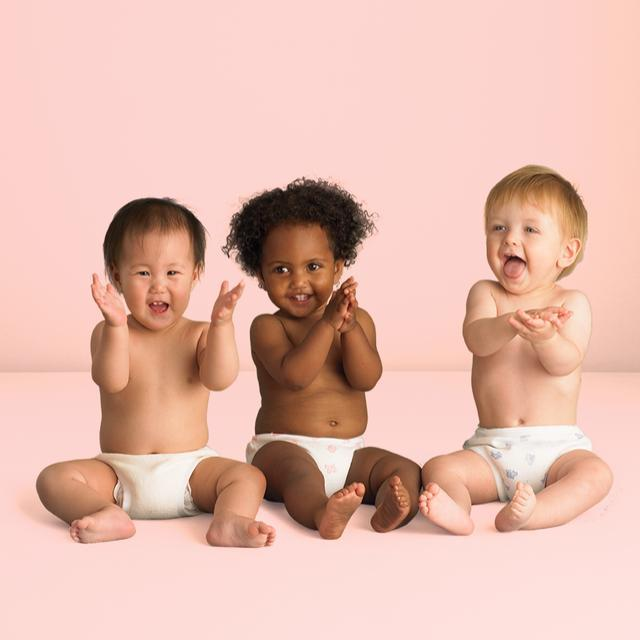non-dog: (36, 197, 276, 549), (419, 165, 614, 536), (226, 177, 422, 539)
